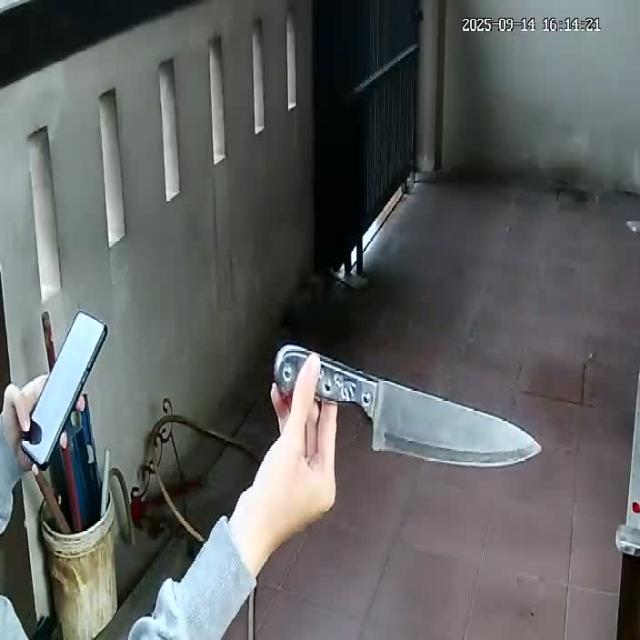senjata_tajam: (274, 342, 541, 470)
